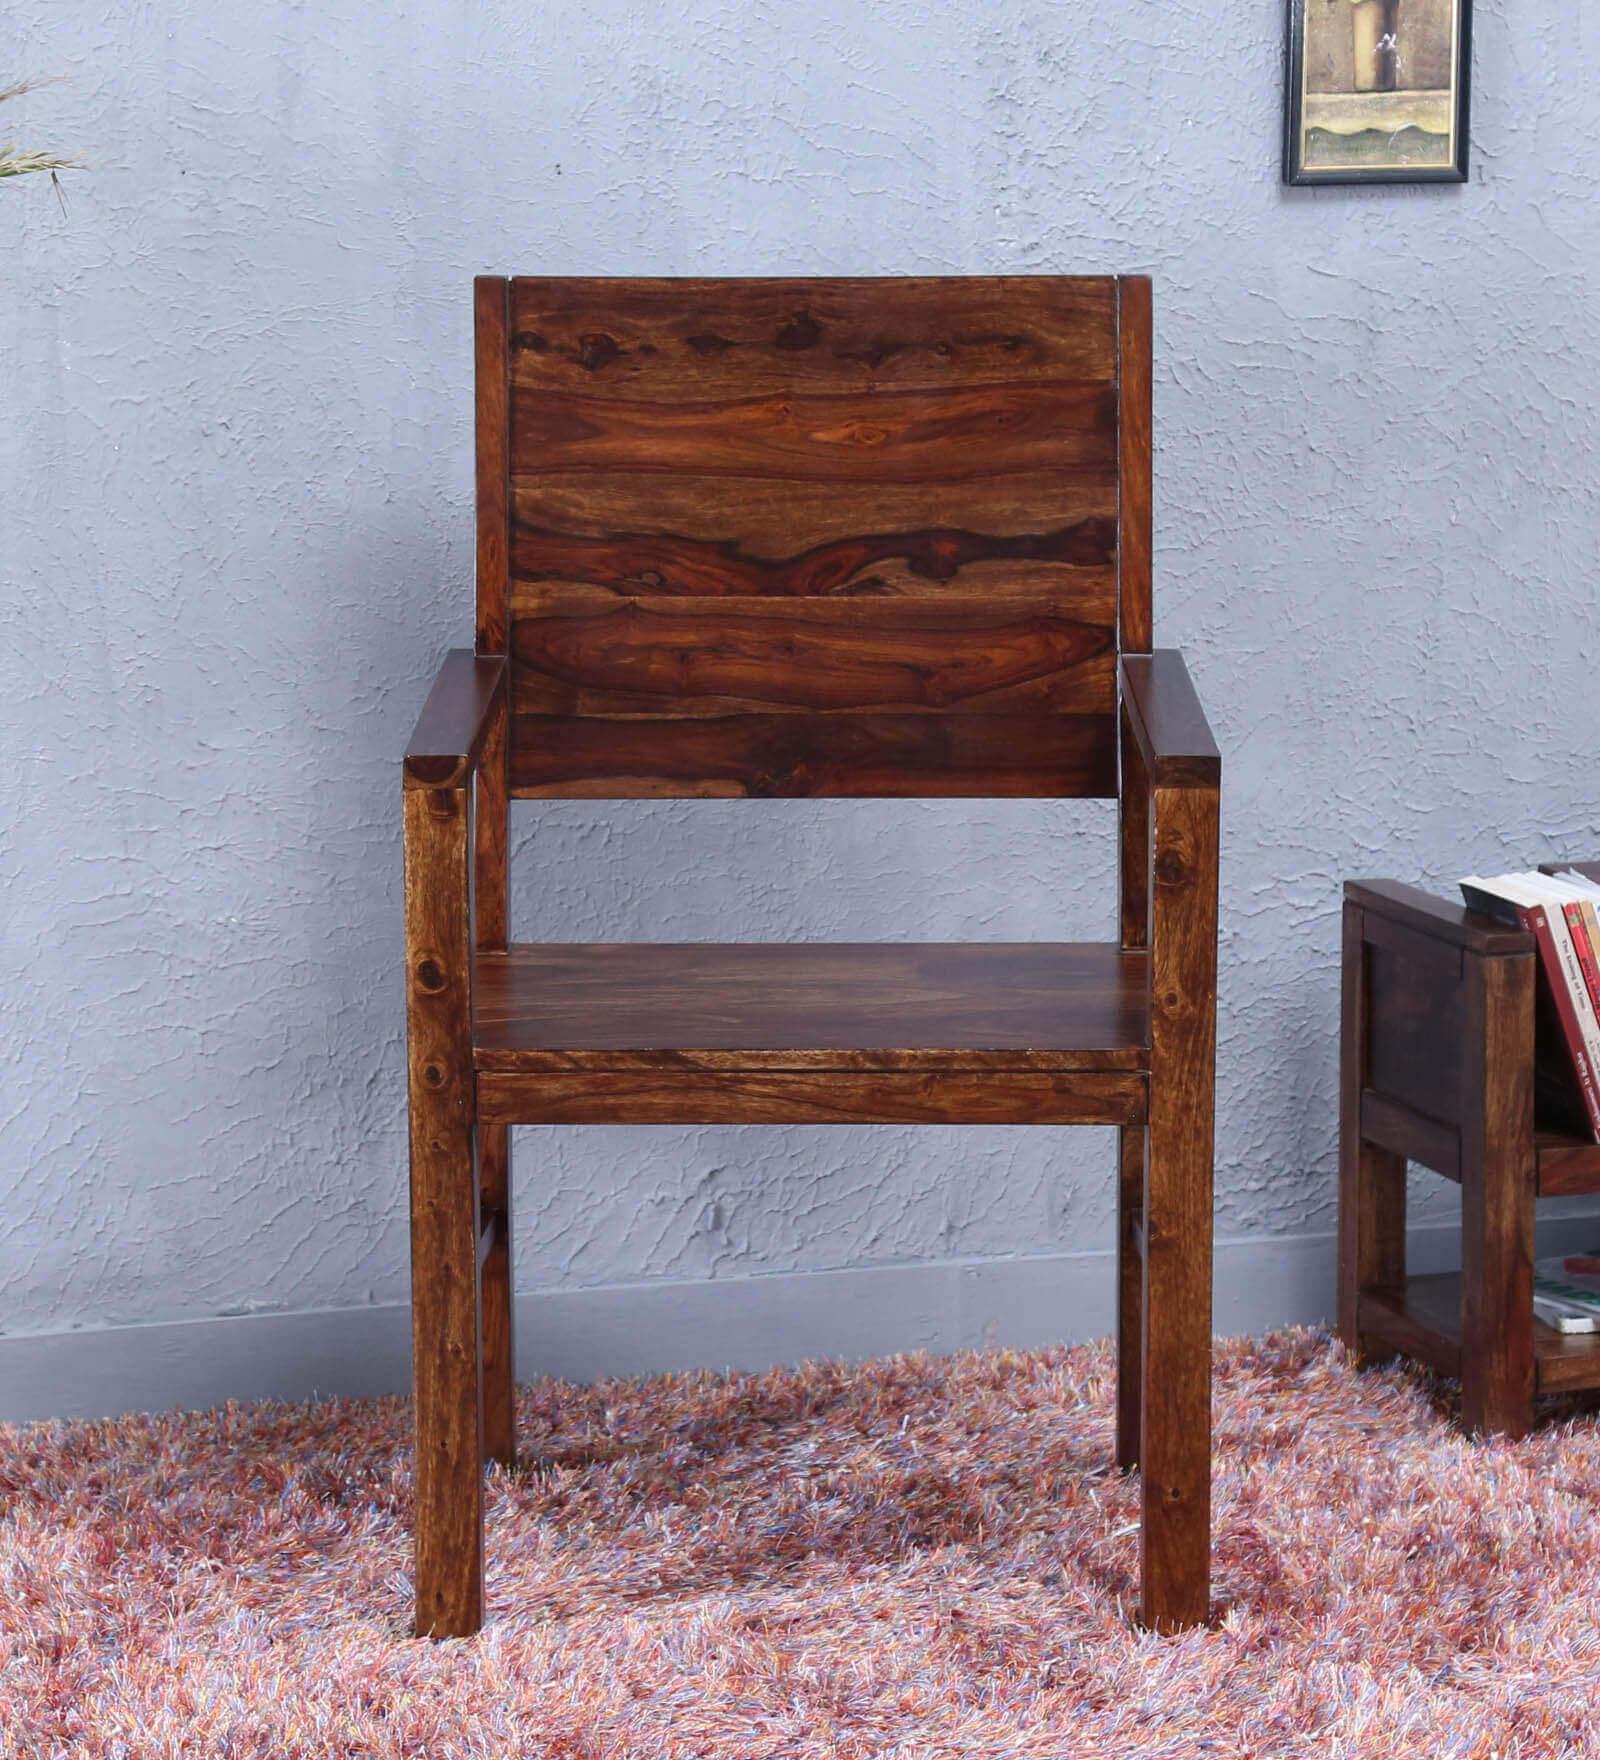Oriel Arm Chair in Provincial Teak Finish by Woodsworth: (395, 261, 1237, 1630)
